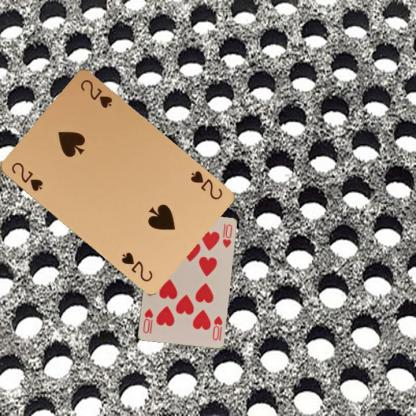10h: (210, 313, 223, 342)
2s: (8, 159, 44, 193), (187, 168, 224, 201)
